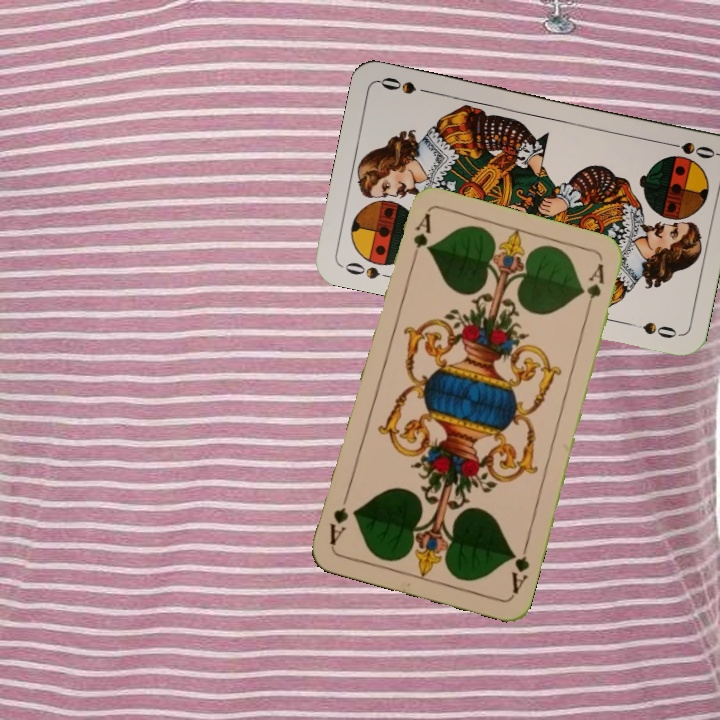GA: (407, 210, 434, 268), (507, 539, 533, 597)
SO: (659, 137, 718, 162), (338, 258, 396, 282)
